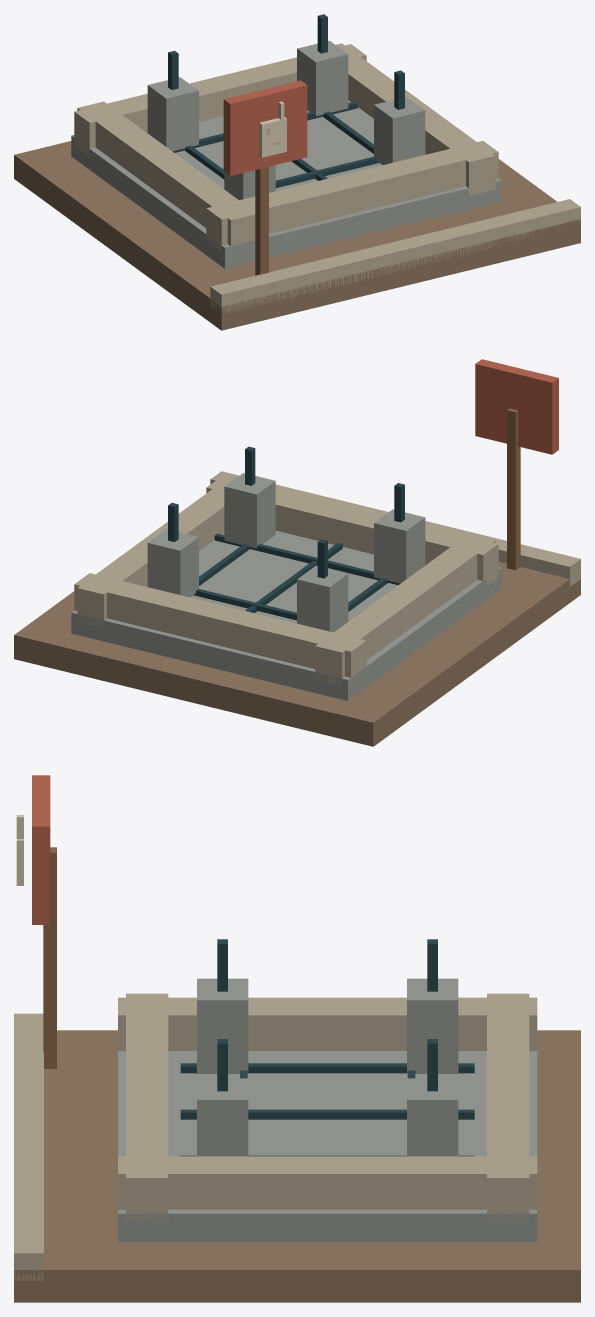
File: police-station-foundation.glb
The picture shows the model from 3 angles, top to bottom: view 1: azimuth 30°, elevation 25°; view 2: azimuth 150°, elevation 25°; view 3: azimuth 270°, elevation 25°; orthographic projection. The views are drawn at different scales.
Visible parts, largest first — view 1: police-station; view 2: police-station; view 3: police-station.
Part boxes in pixels (x1,y1,x2,y2): police-station: (14, 14, 580, 330); police-station: (14, 359, 580, 746); police-station: (14, 775, 580, 1302).
Bounding box in the file's own units: 1.88 × 1.09 × 1.88.
